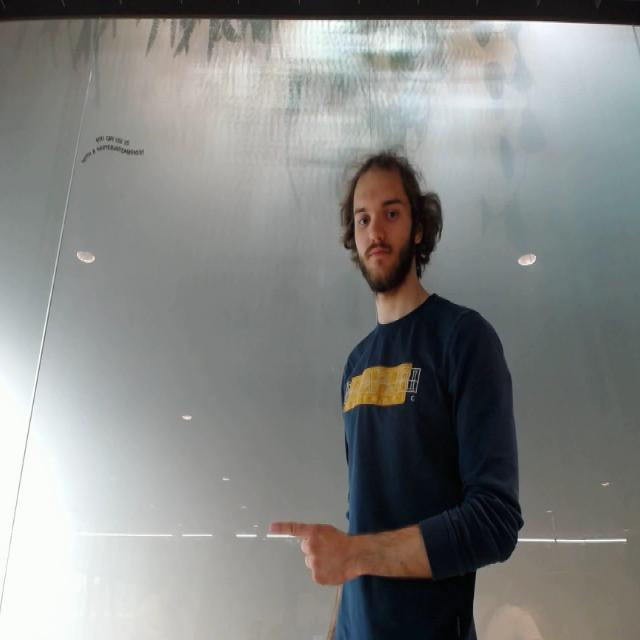left: (266, 515, 366, 590)
